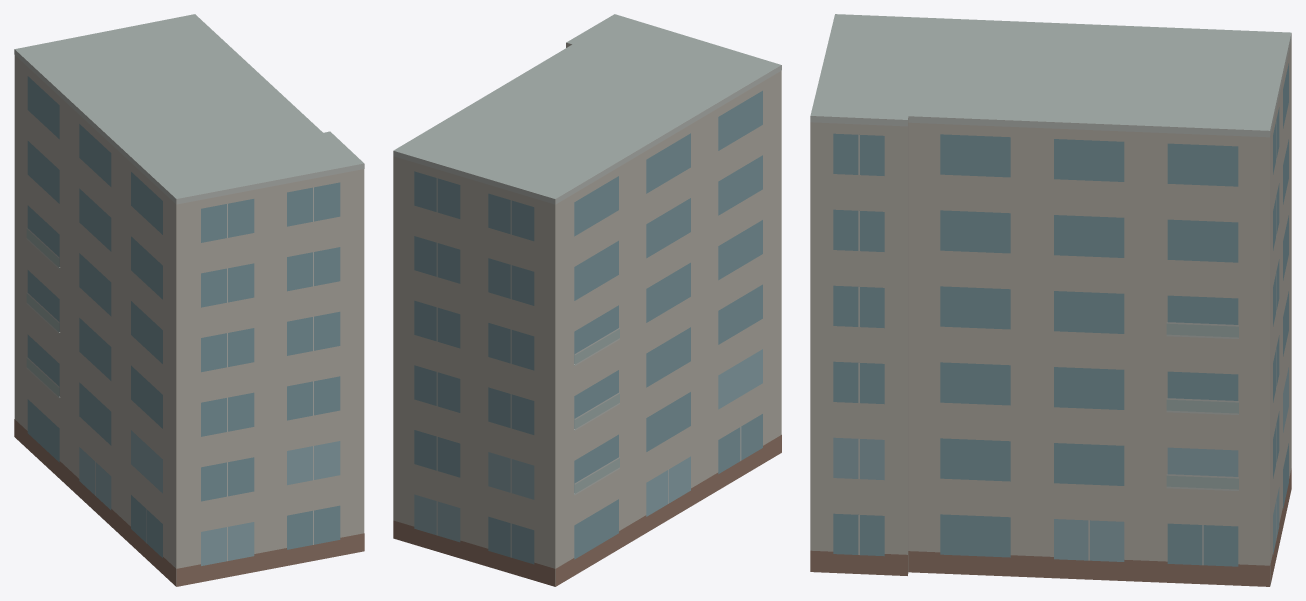
File: survey-upis-32704975.glb
The picture shows the model from 3 angles, left to right: view 1: azimuth 30°, elevation 25°; view 2: azimuth 150°, elevation 25°; view 3: azimuth 270°, elevation 25°; orthographic projection. The views are drawn at different scales.
Parts seen in each view (by area): view 1: survey-upis-32704975.tmp; view 2: survey-upis-32704975.tmp; view 3: survey-upis-32704975.tmp.
Part boxes in pixels (x1,y1,x2,y2): survey-upis-32704975.tmp: (14,14,364,586); survey-upis-32704975.tmp: (393,14,781,586); survey-upis-32704975.tmp: (810,14,1291,586).
Size of the model in its own units: 9.46 by 17.2 by 16.46.
